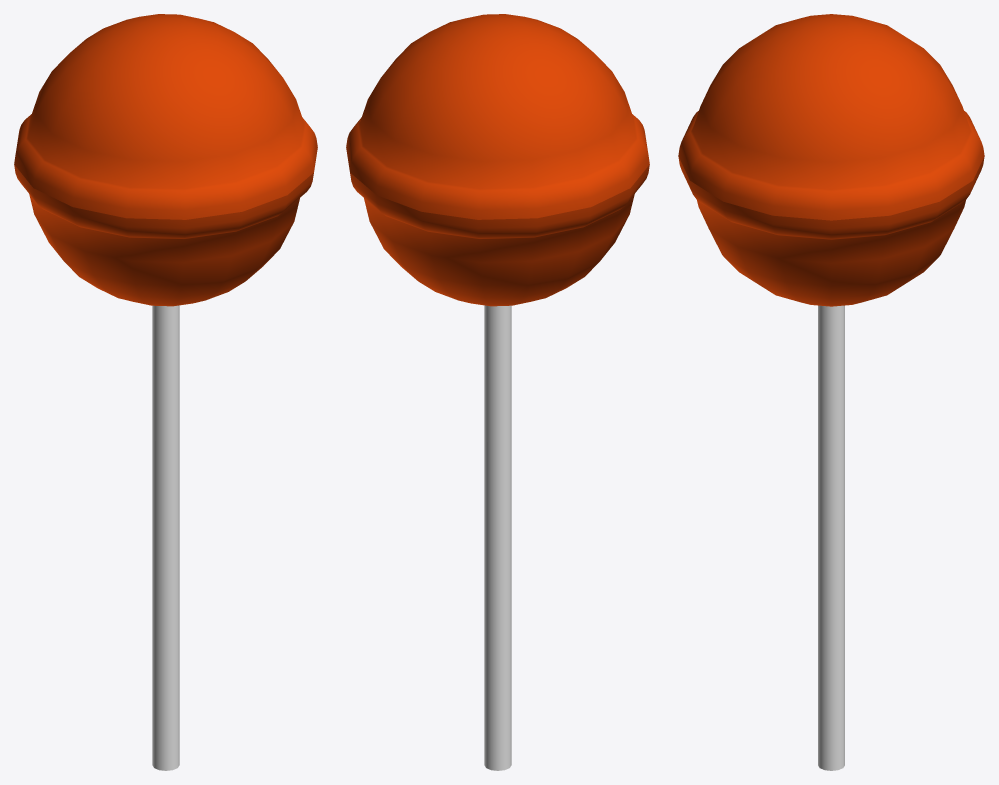
File: Lollipop_1.fbx
3 renders of one model, left to right at view 1: azimuth 30°, elevation 25°; view 2: azimuth 150°, elevation 25°; view 3: azimuth 270°, elevation 25°, orthographic.
Parts seen in each view (by area): view 1: Lollipop_1; view 2: Lollipop_1; view 3: Lollipop_1.
Part boxes in pixels (x1,y1,x2,y2): Lollipop_1: (14,14,317,770); Lollipop_1: (346,14,649,770); Lollipop_1: (678,14,984,770).
Size of the model in its own units: 0.0277 by 0.0736 by 0.0277.
